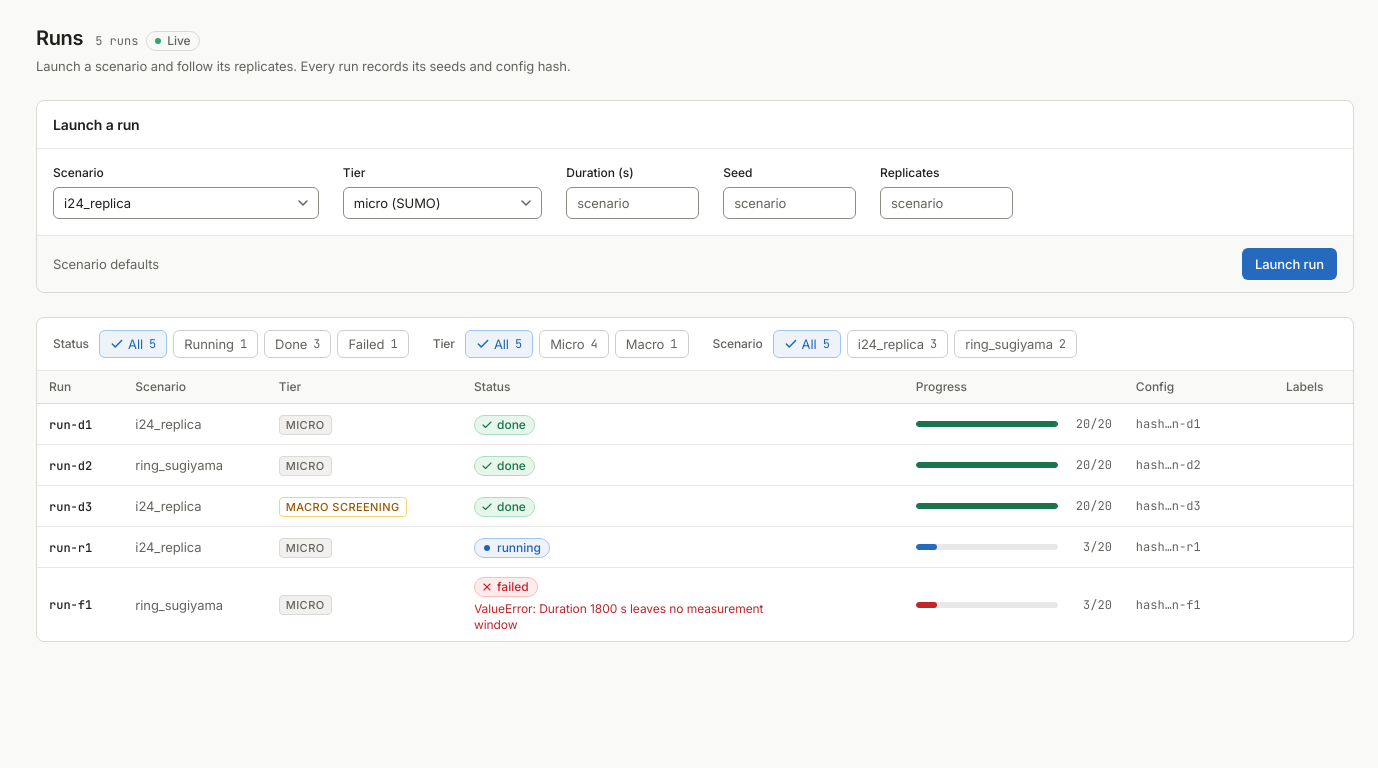
Test: RunsView filter chips › filters the loaded rows and writes the choice to the URL
The width and height of the screenshot is (1378, 768).
Click the button "Failed 1" at (373, 344), box [337, 330, 409, 358]
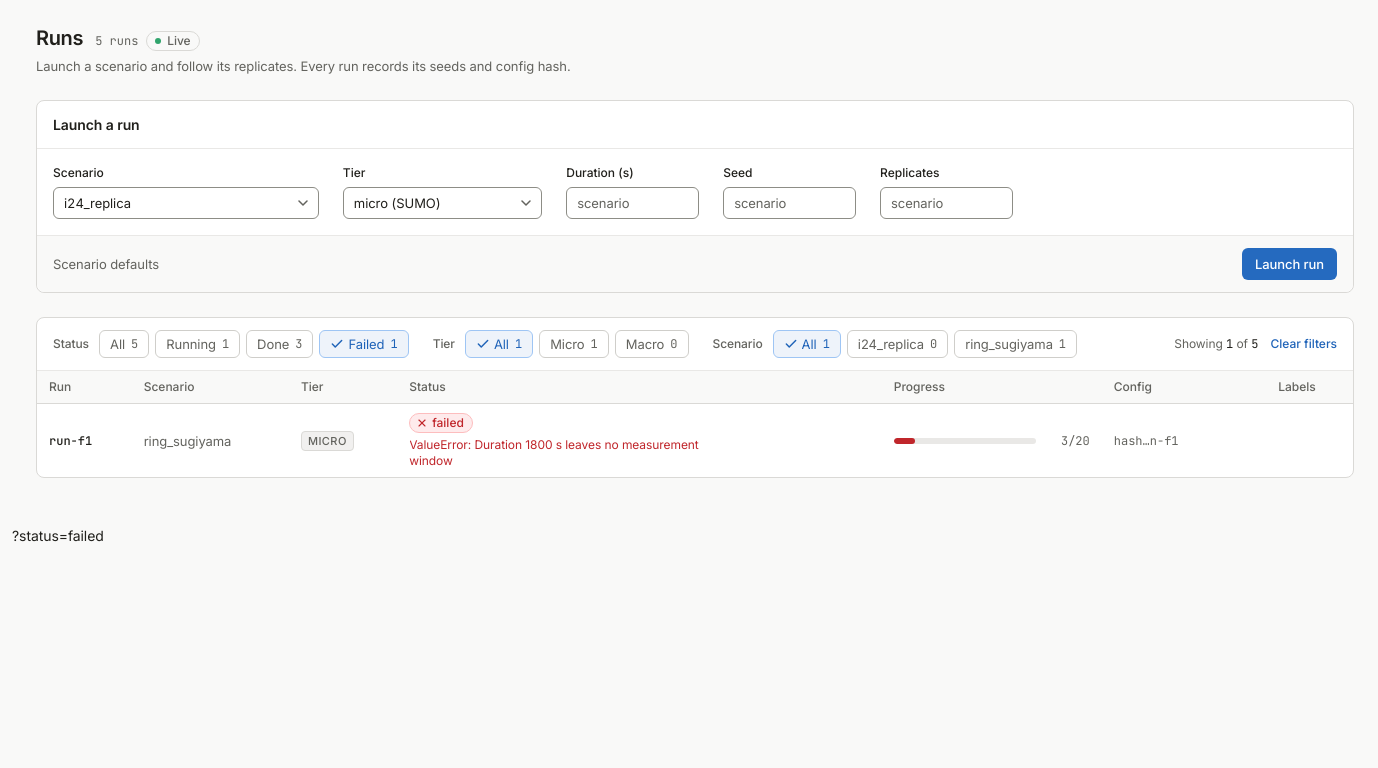
Now the text with test id "where" reads "?status=failed", box [12, 528, 104, 544]
Now the text "Showing 1 of 5" is shown, box [1174, 336, 1258, 352]
Click the button "Running 1" at (198, 344), box [155, 330, 240, 358]
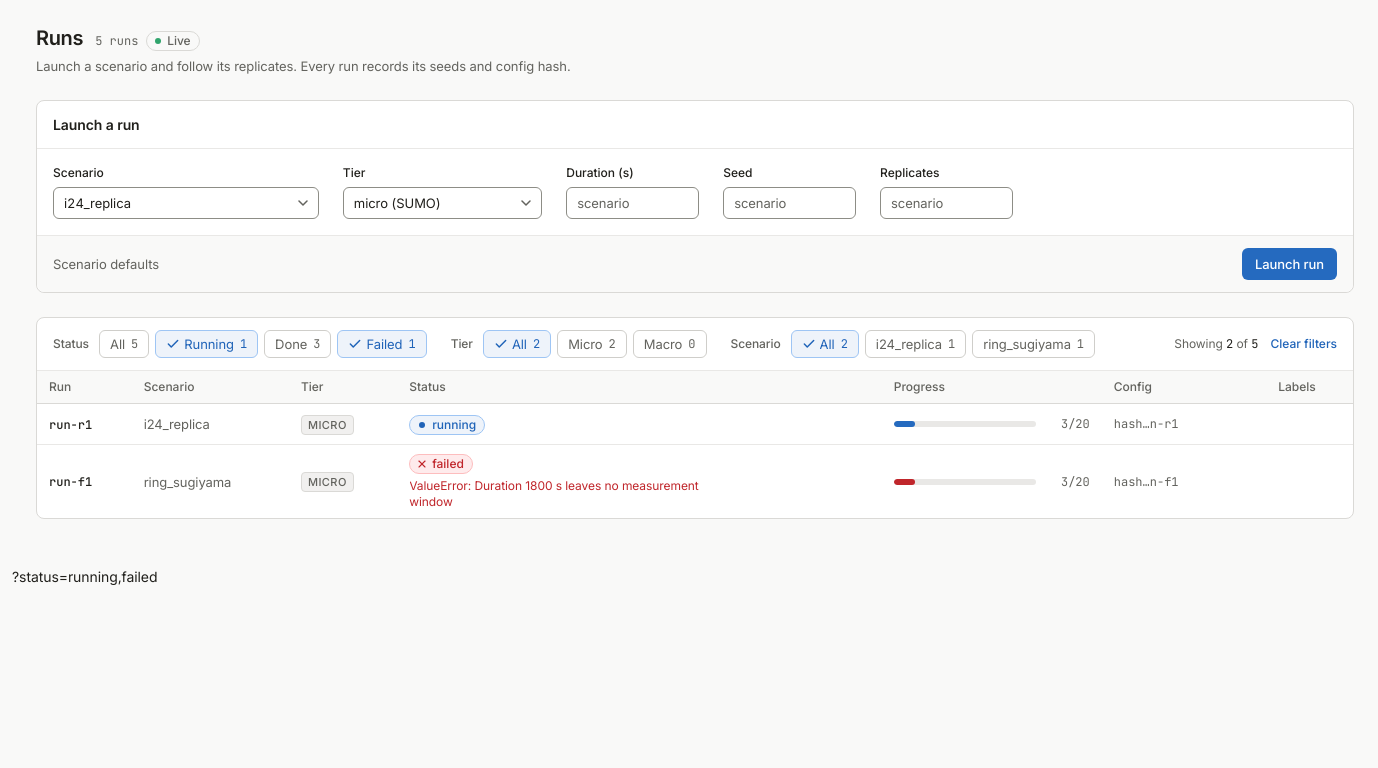
Now the text with test id "where" reads "?status=running,failed", box [12, 568, 157, 586]
Click the button "Micro 2" at (592, 344), box [557, 330, 627, 358]
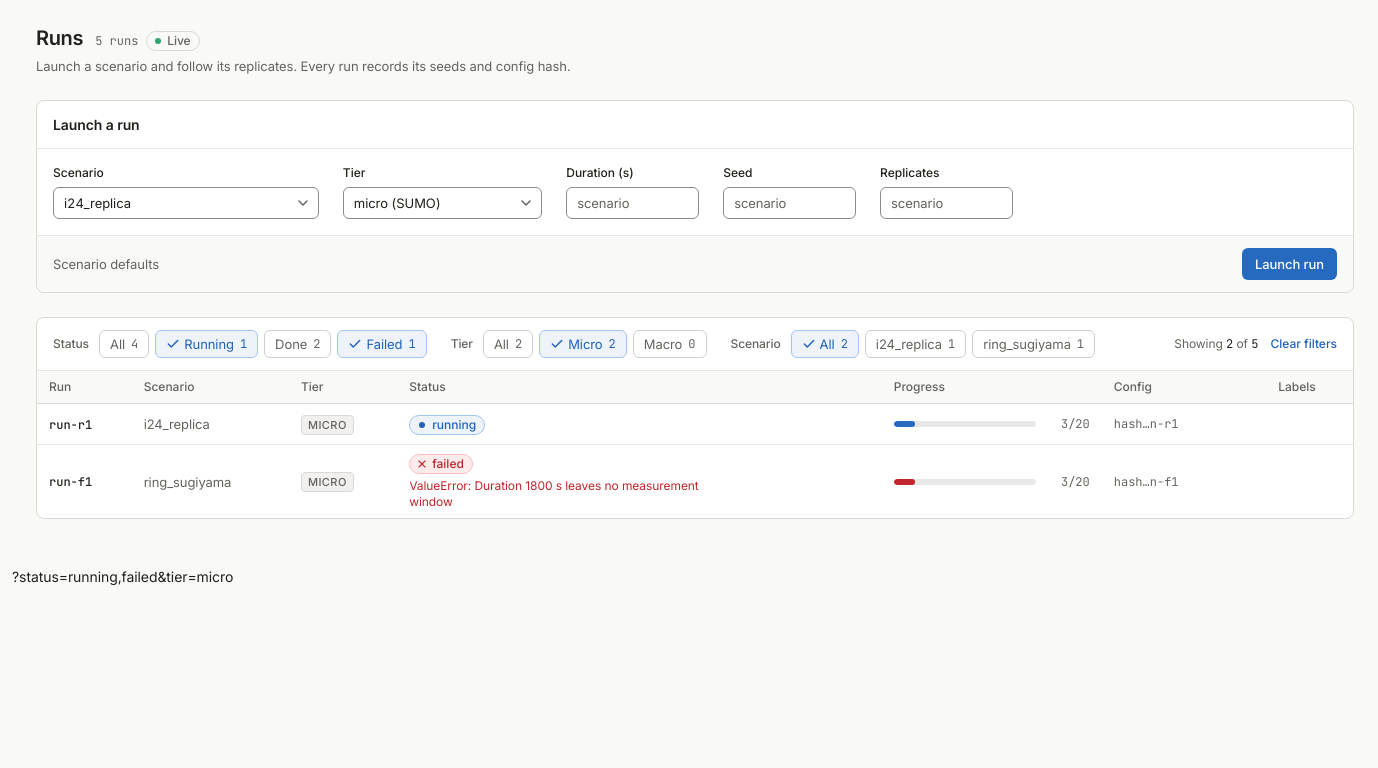
Now the button "Micro 2" is shown, box [539, 330, 627, 358]
Now the button "Macro 0" is shown, box [633, 330, 707, 358]
Now the text with test id "where" reads "?status=running,failed&tier=micro", box [12, 568, 233, 586]
Click the button "All 4" at (124, 344), box [99, 330, 149, 358]
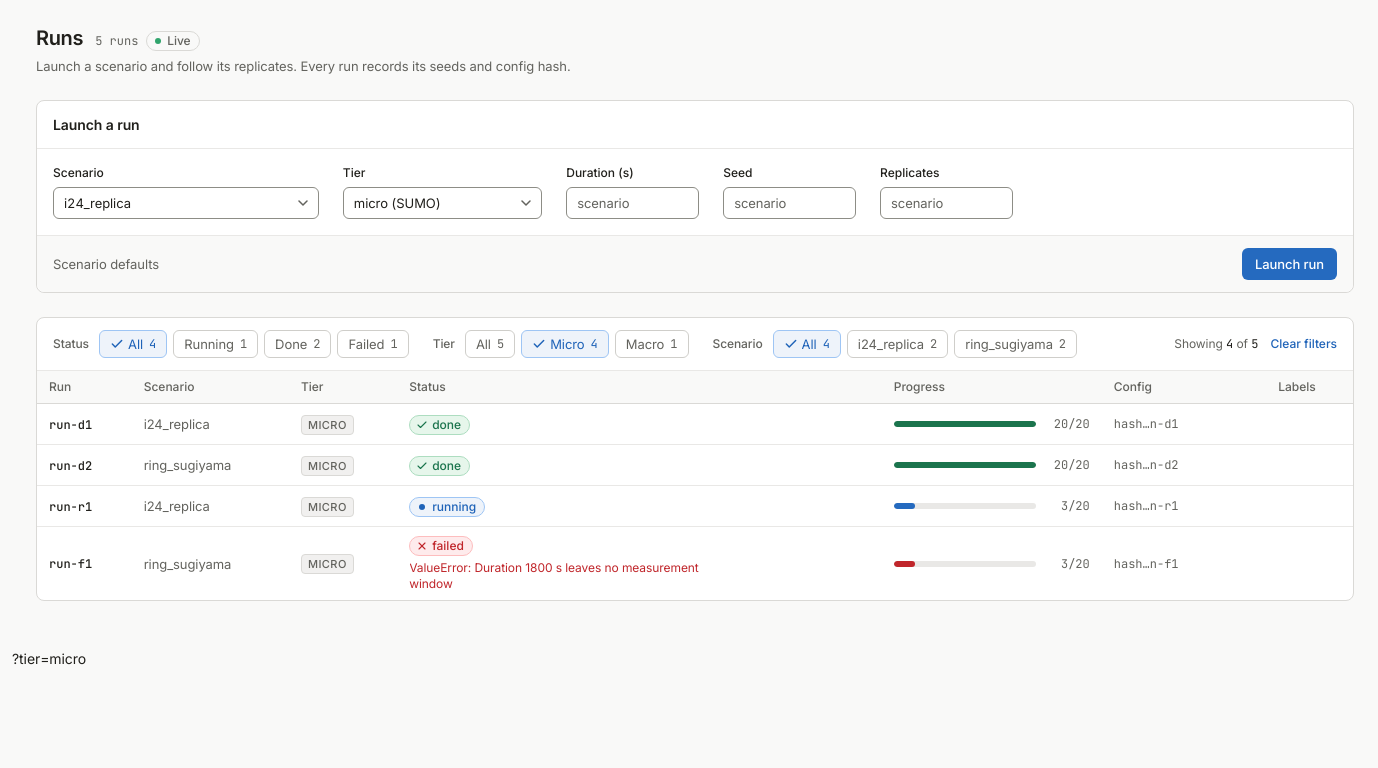
Now the text with test id "where" reads "?tier=micro", box [12, 650, 86, 668]
